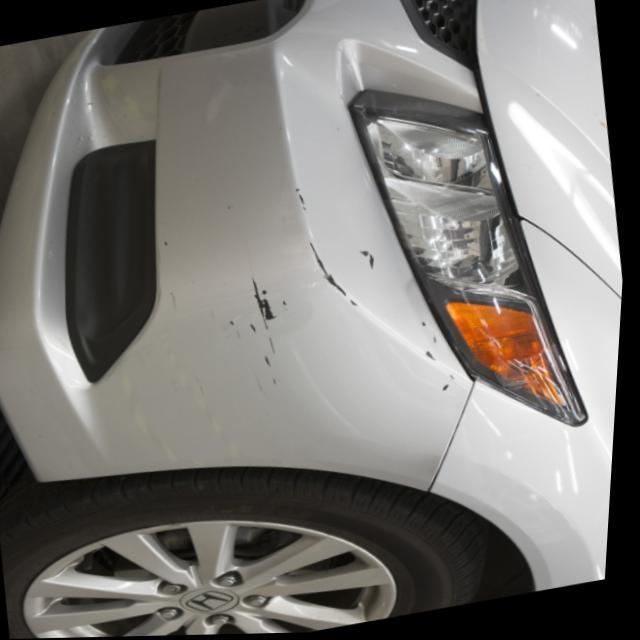Scratch: (308, 236, 364, 313), (256, 282, 279, 359)
